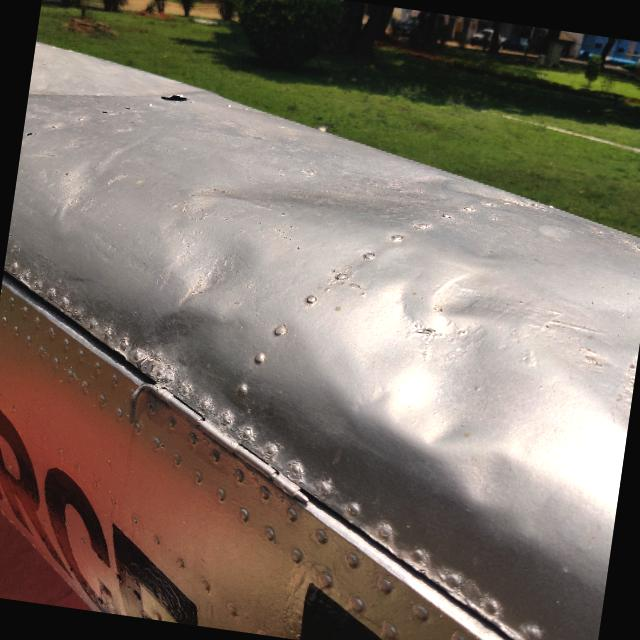dent: (316, 241, 560, 489), (158, 213, 274, 341), (440, 431, 553, 543)
